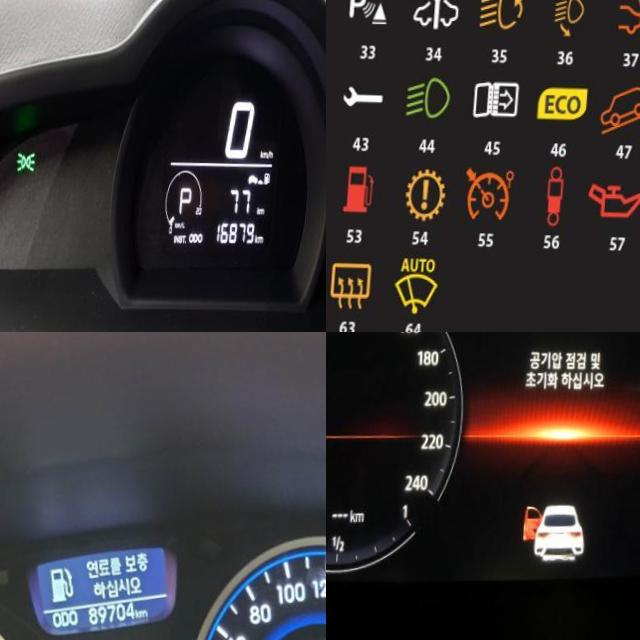SideLamp: (20, 148, 42, 171)
